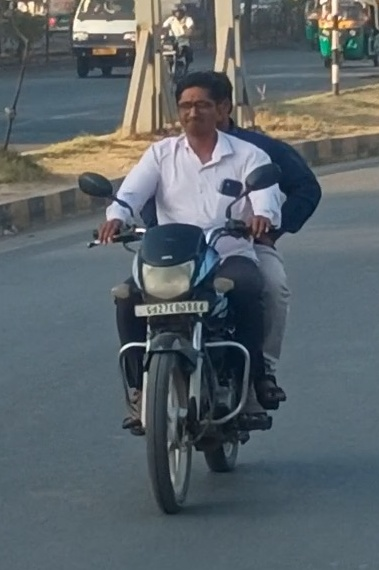BikeWithRider: (74, 69, 324, 521), (155, 1, 195, 80)
NoHelmet: (175, 76, 220, 137), (197, 68, 236, 128)
